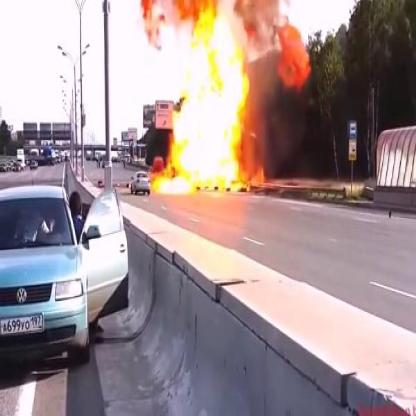fire: (150, 0, 252, 196)
